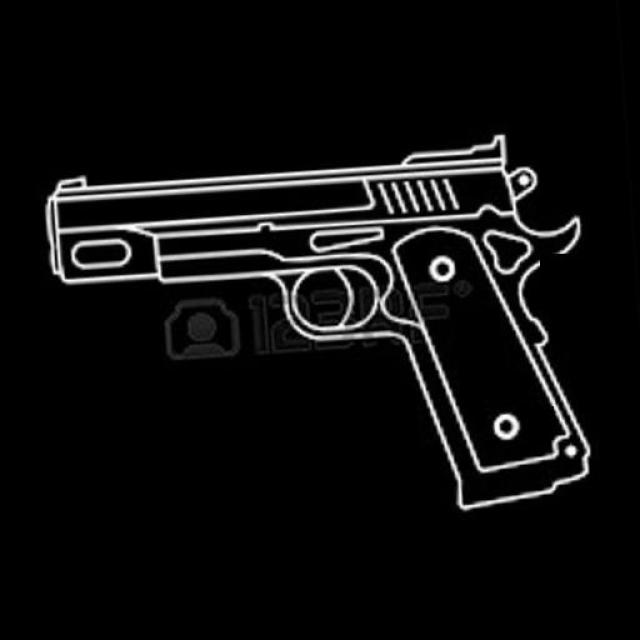gun: (47, 132, 598, 542)
